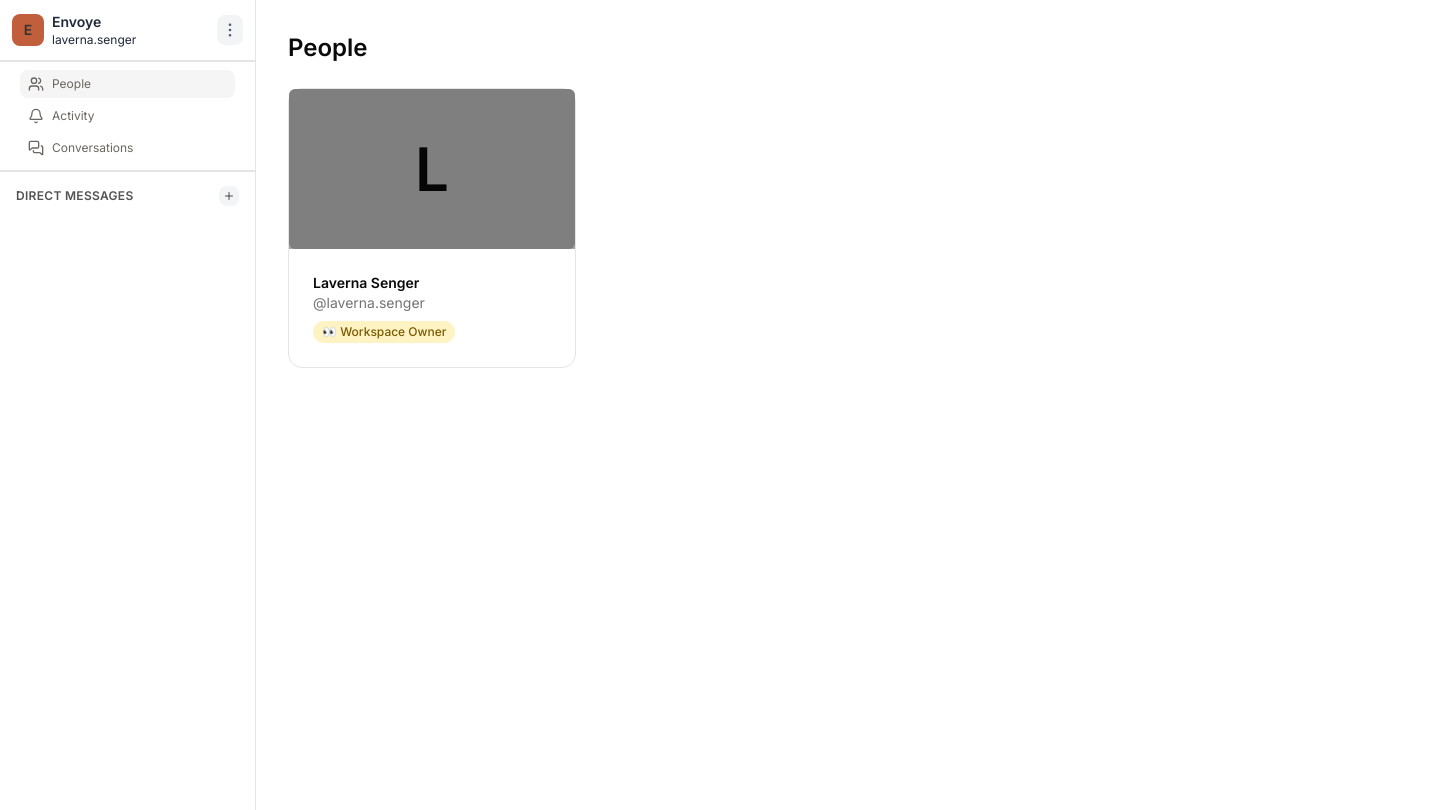
Test: Invite Teammate › enable send invite button once valid email is inputed
Click the button named "Workspace menu" at (230, 30), box [217,15,243,45]
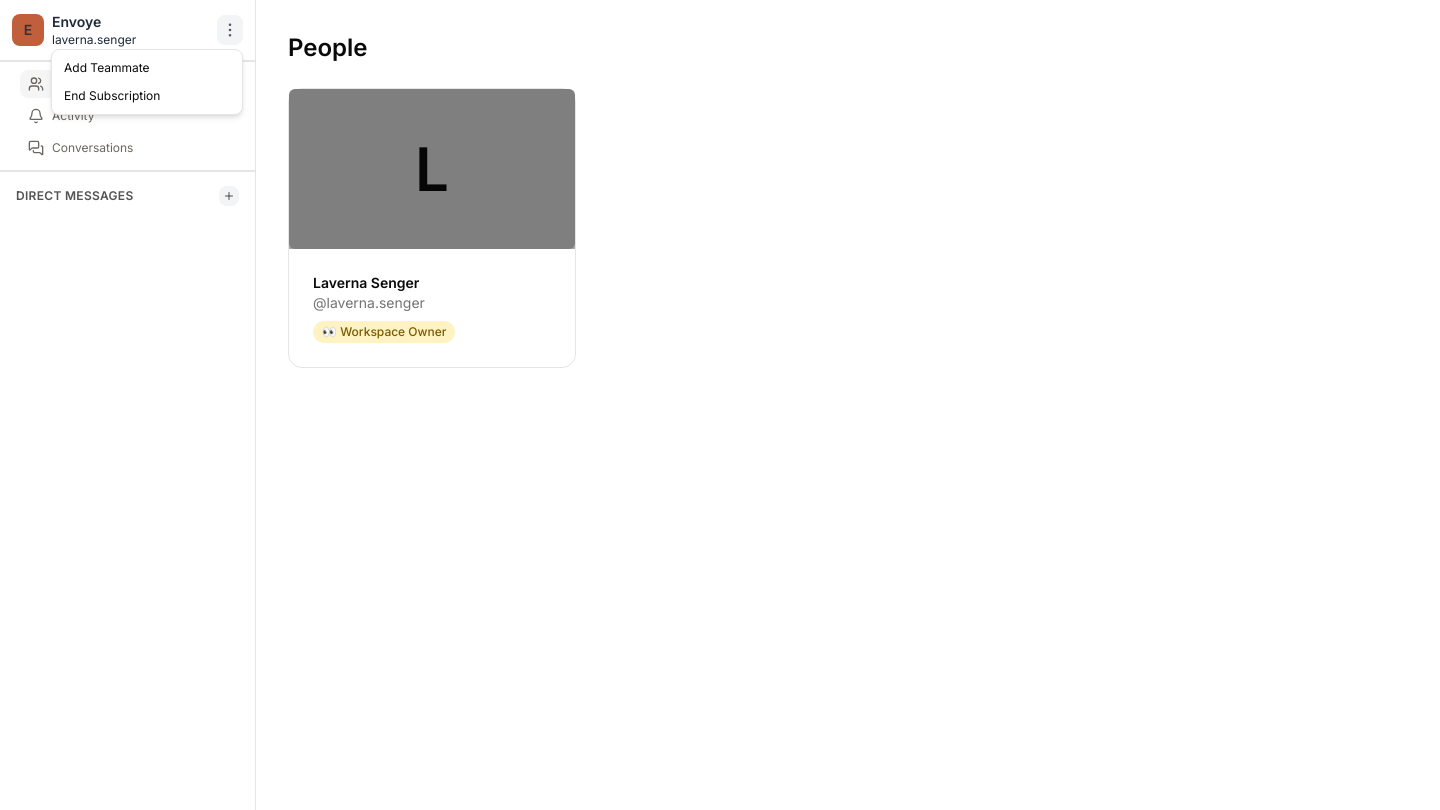
Click the menu item "Add Teammate" at (107, 68), box [64,60,150,75]
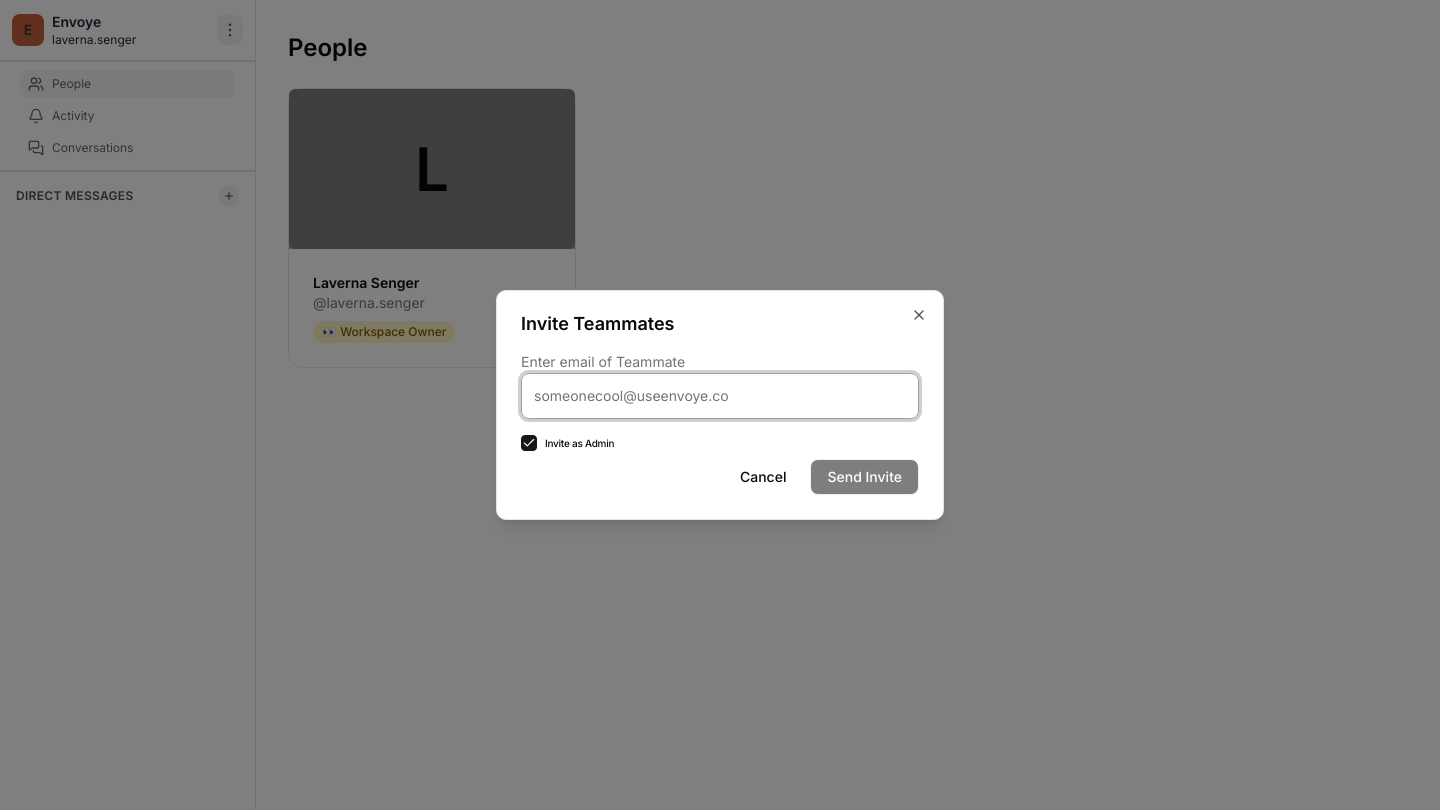
Expected: the button with test id "send-workspace-invite-button" is disabled, [810,459,919,495]
Type "tumise@useenvoye.io" into the field with test id "email-pill-input" at (720, 396), box [534,382,906,410]
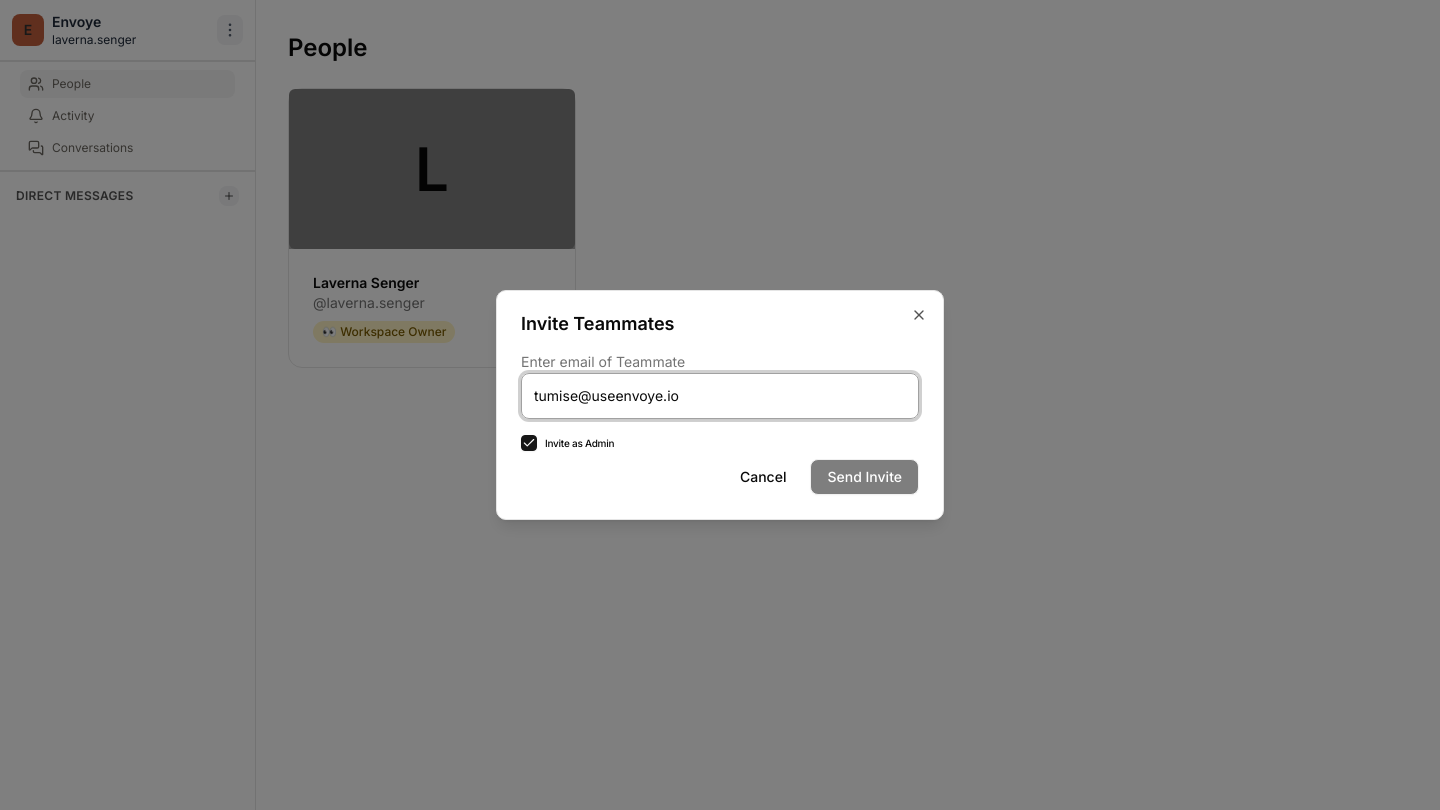
Press Tab
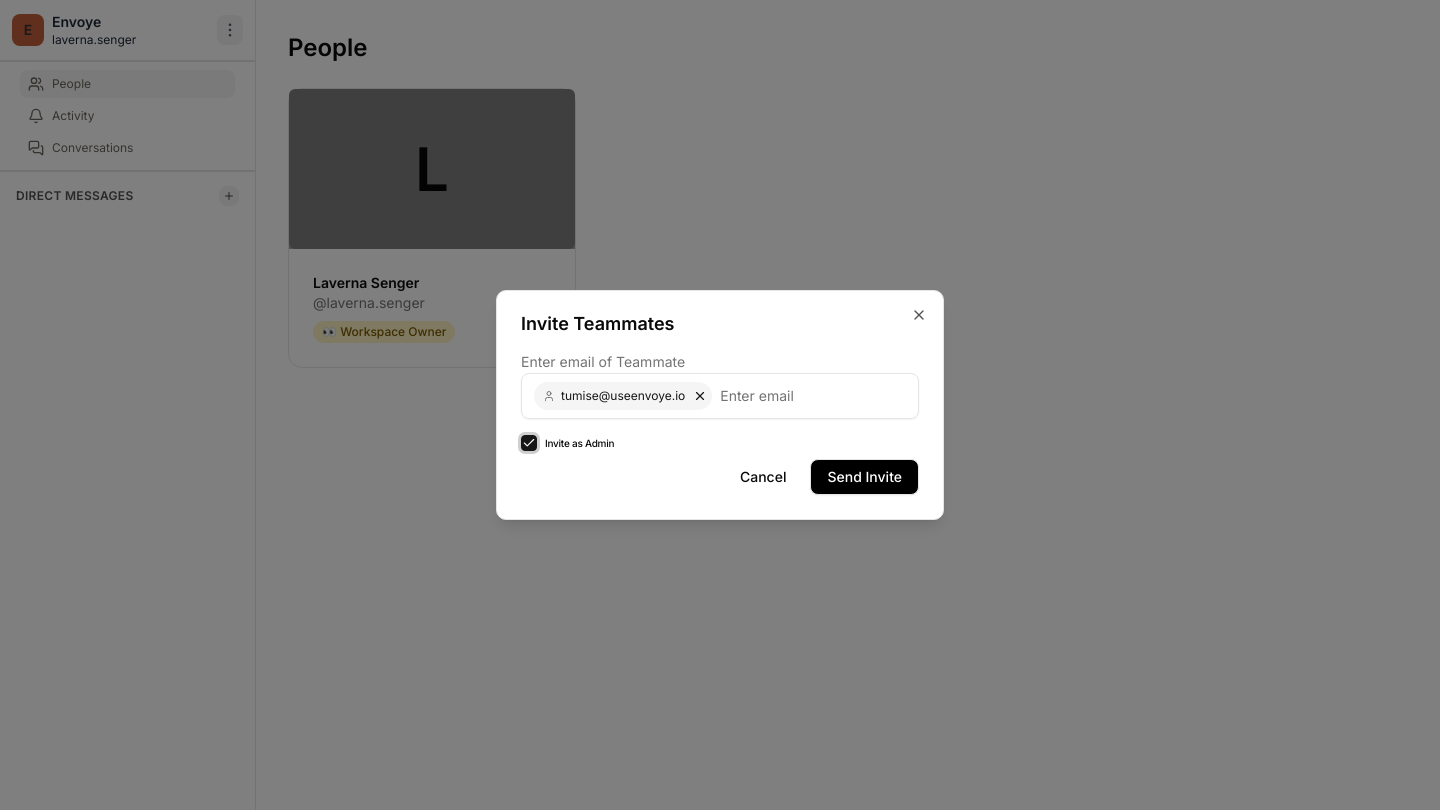
Expected: the button with test id "send-workspace-invite-button" is enabled, [810,459,919,495]
